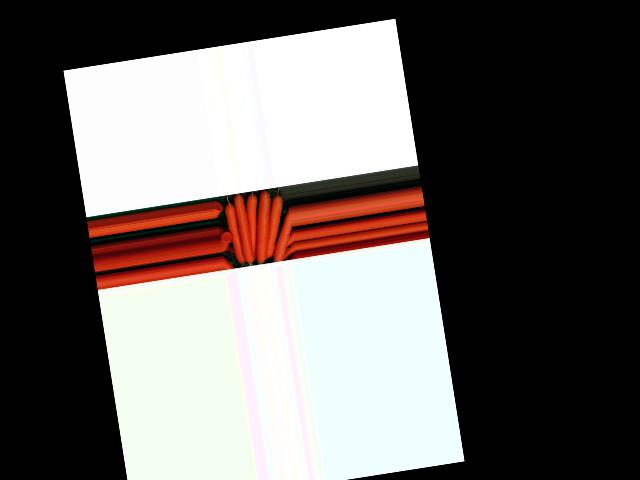carrot: (244, 187, 277, 264)
